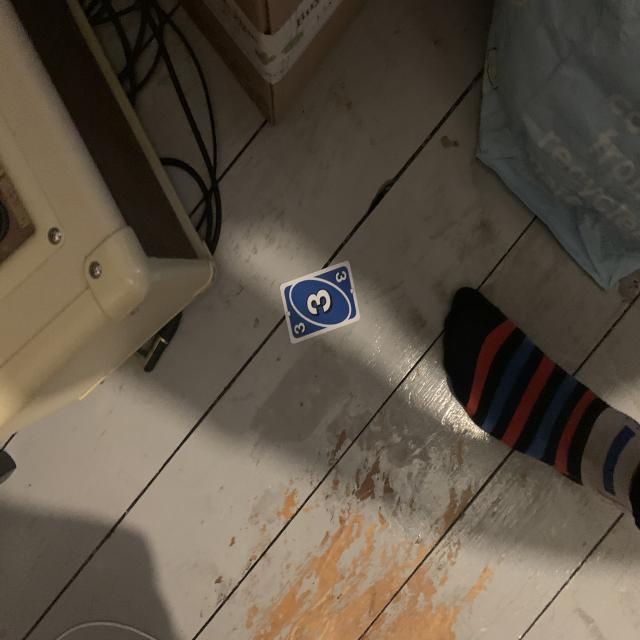lblue-3: (332, 268, 350, 286)
